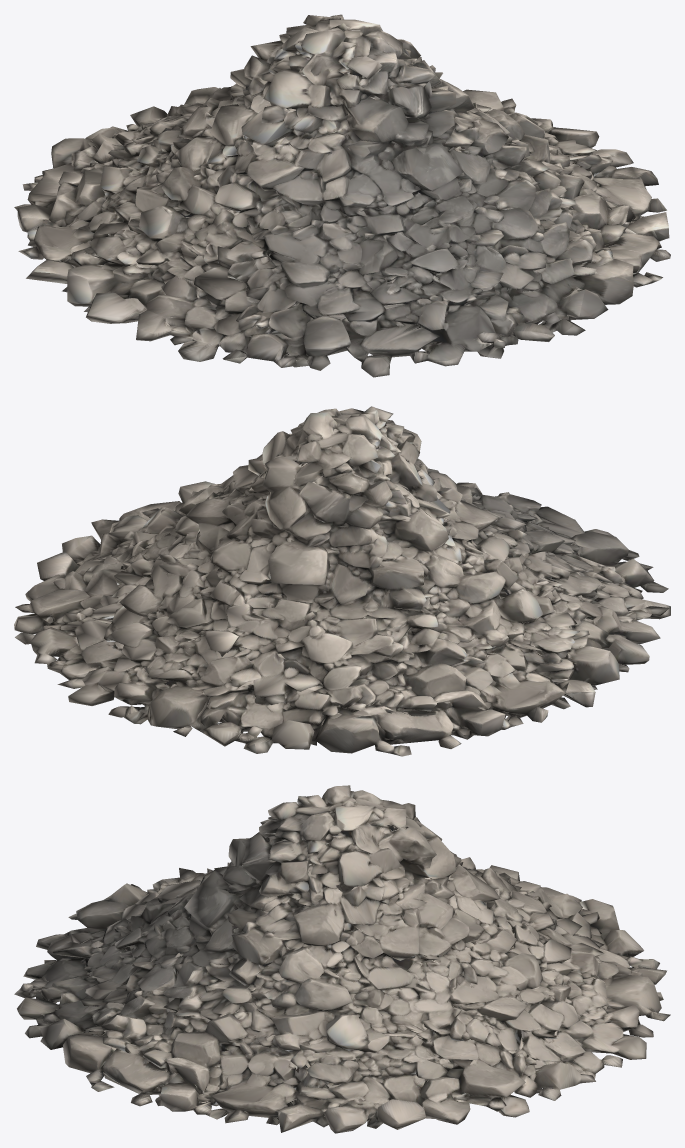
File: scree_a.glb
3 renders of one model, top to bottom at view 1: azimuth 30°, elevation 25°; view 2: azimuth 150°, elevation 25°; view 3: azimuth 270°, elevation 25°, orthographic. The views are drawn at different scales.
Visible parts, largest first — view 1: scree_a; view 2: scree_a; view 3: scree_a.
Part boxes in pixels (box(x1,y1,x2,y2)): scree_a: box(14, 14, 670, 377); scree_a: box(14, 406, 670, 756); scree_a: box(14, 785, 670, 1133).
Size of the model in its own units: 20.01 by 7.03 by 20.33.
1 material, 1 textured.
